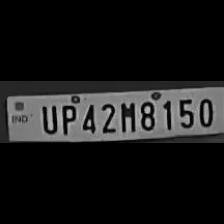0: (195, 95, 215, 127)
1: (158, 97, 174, 130)
2: (98, 100, 116, 134)
4: (78, 100, 98, 134)
5: (174, 96, 194, 128)
8: (138, 98, 156, 132)
M: (116, 99, 136, 133)
P: (57, 101, 76, 135)
U: (36, 102, 58, 134)
